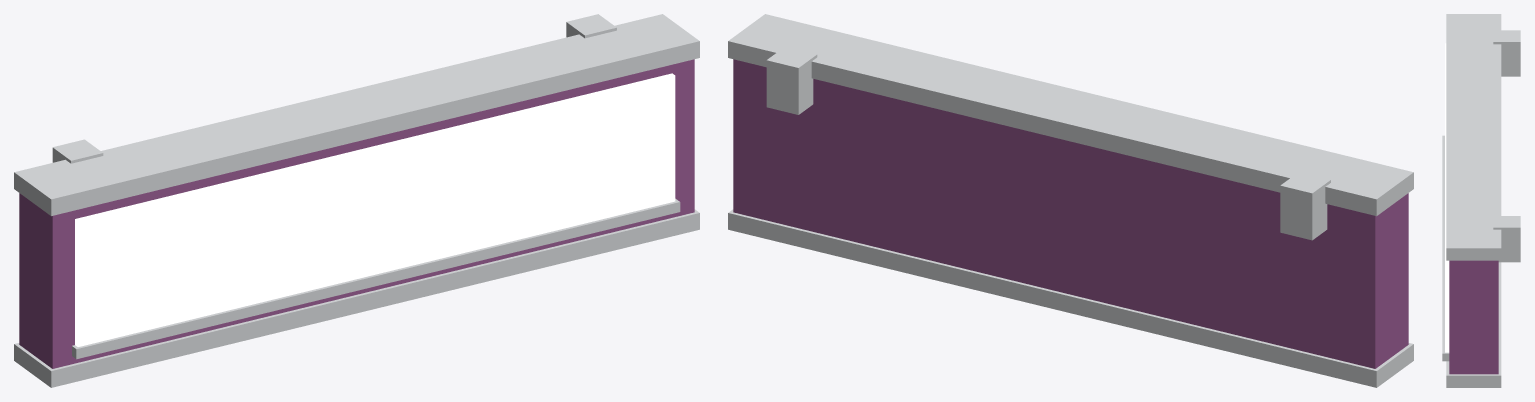
Rendered from pharmacy-and-high-street-chemist-fascia-sign-frame-be4b4807__37498.glb.
The picture shows the model from 3 angles, left to right: view 1: azimuth 30°, elevation 25°; view 2: azimuth 150°, elevation 25°; view 3: azimuth 270°, elevation 25°; orthographic projection. The views are drawn at different scales.
Visible parts, largest first — view 1: fascia-sign-frame; view 2: fascia-sign-frame; view 3: fascia-sign-frame.
Boxes of the visible parts, left/top/right/bottom form: fascia-sign-frame: left=14, top=14, right=699, bottom=387; fascia-sign-frame: left=728, top=14, right=1413, bottom=387; fascia-sign-frame: left=1442, top=14, right=1520, bottom=387.
Bounding box in the file's own units: 2.02 × 0.5699 × 0.2851.
